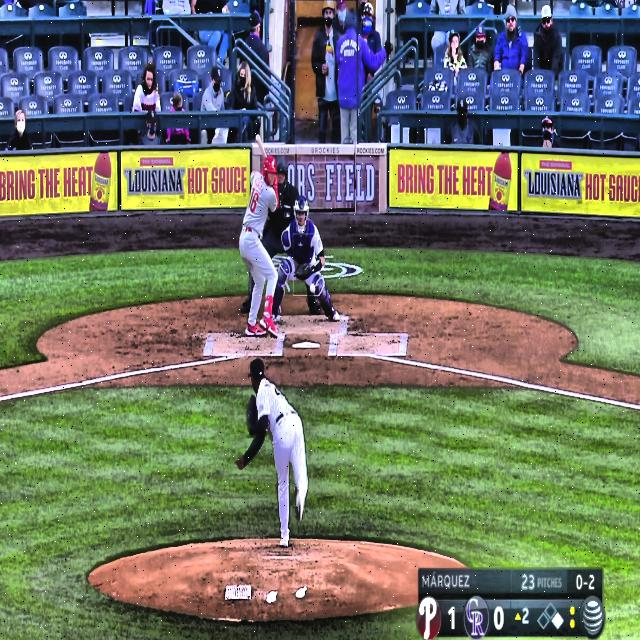baseball: (309, 282, 317, 295)
